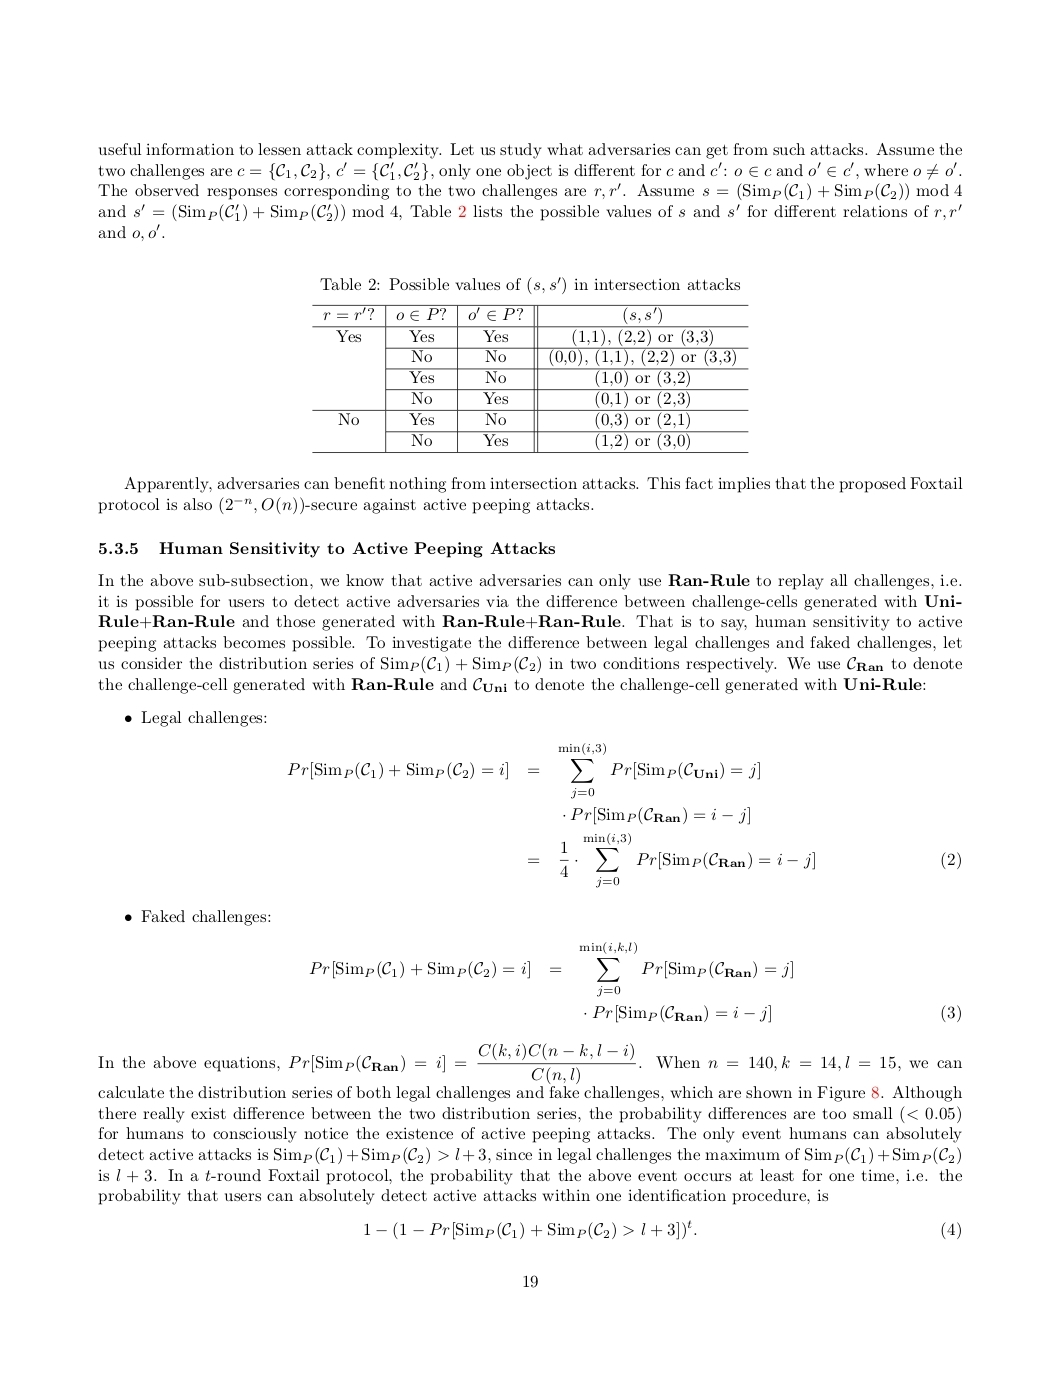Table: (312, 303, 748, 452)
formula: (309, 942, 792, 996), (288, 743, 759, 798), (528, 832, 960, 887), (364, 1219, 960, 1240), (584, 1004, 960, 1023), (563, 807, 749, 824)
